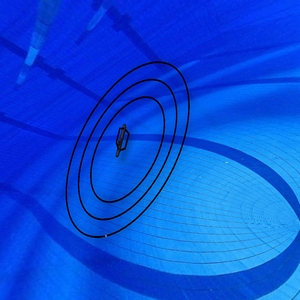circle: (64, 59, 193, 247)
submarine: (112, 120, 137, 159)
